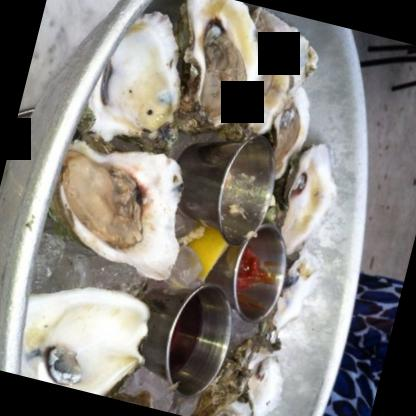oyster: (39, 134, 201, 286), (72, 4, 204, 162), (13, 273, 154, 402), (152, 0, 283, 138), (226, 8, 330, 144)
